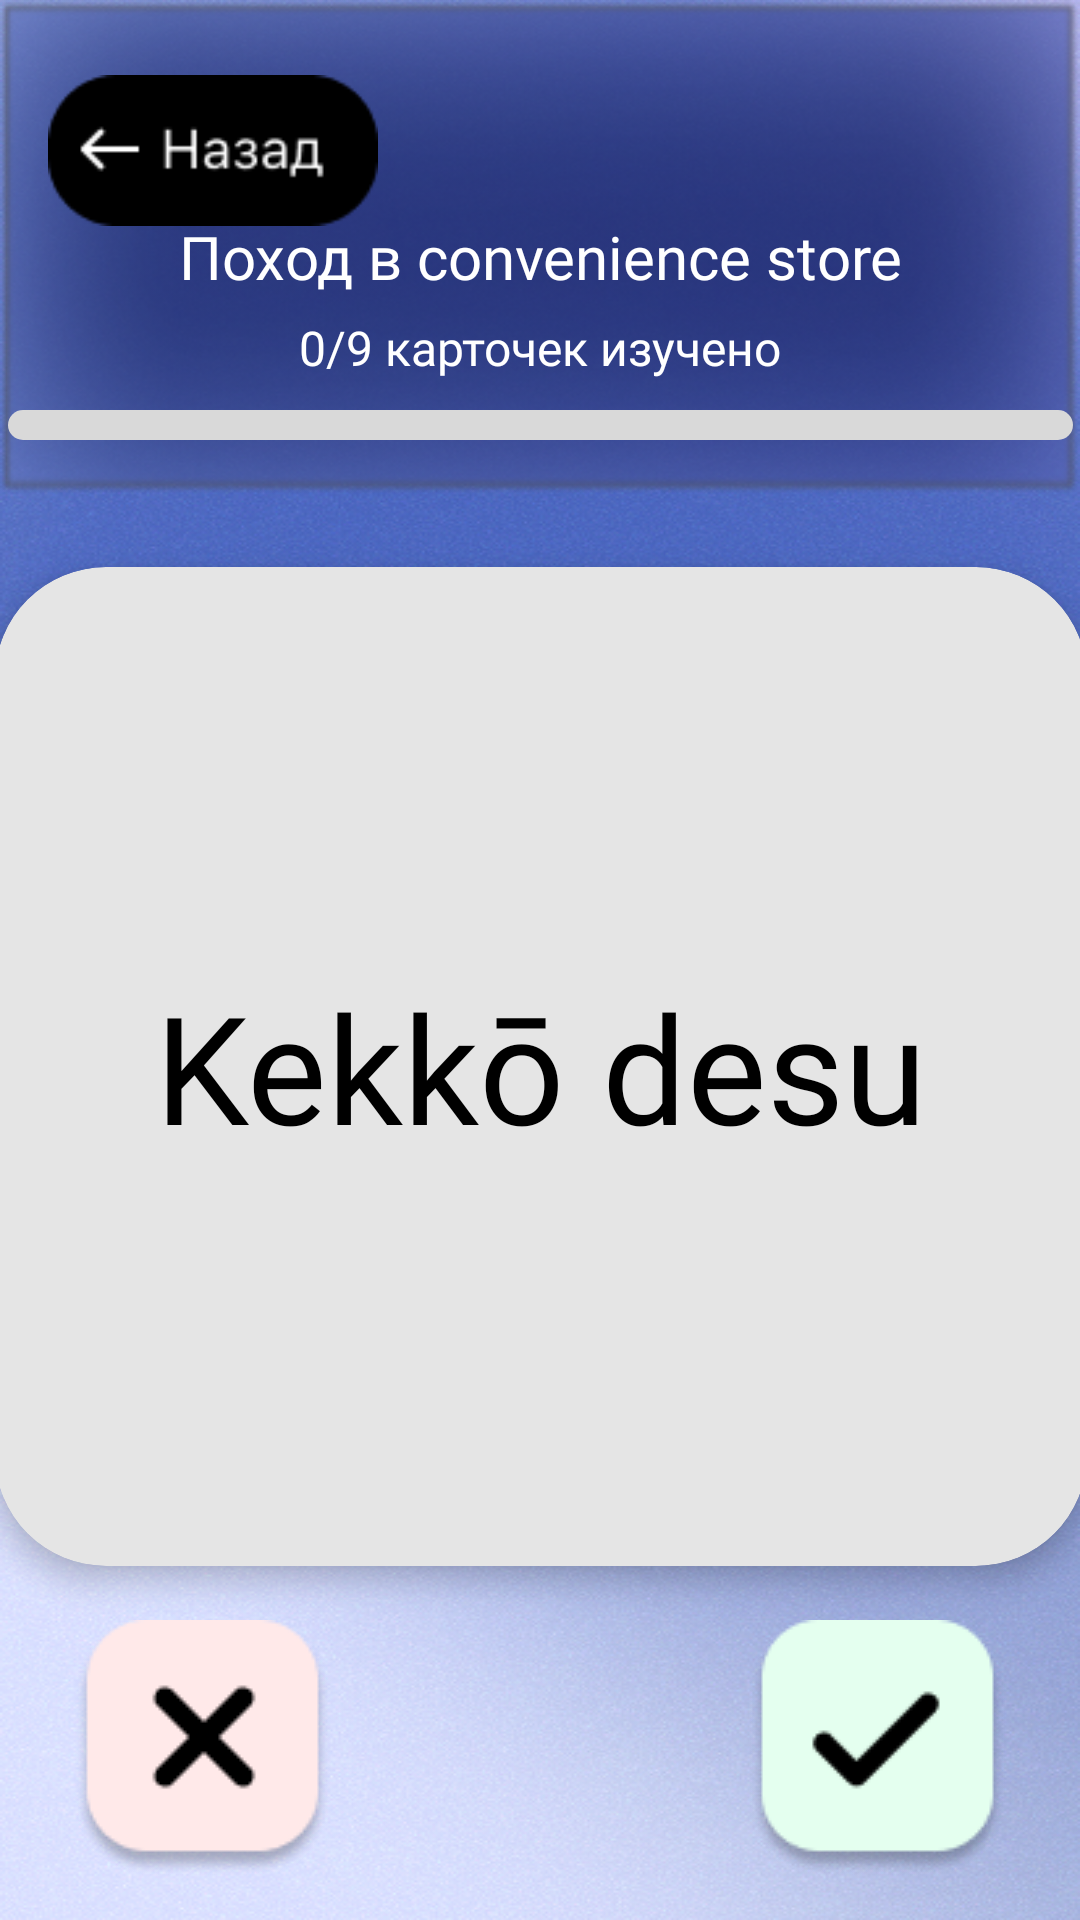

Where icons sit on this 1080*1920 app screen, as bbox=[x1, y1, x2, y2]:
Знаю: bbox=[750, 1620, 996, 1875]
Не знаю: bbox=[85, 1620, 322, 1865]
